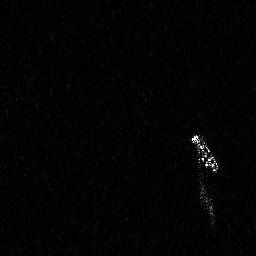ship: (188, 132, 220, 228)
